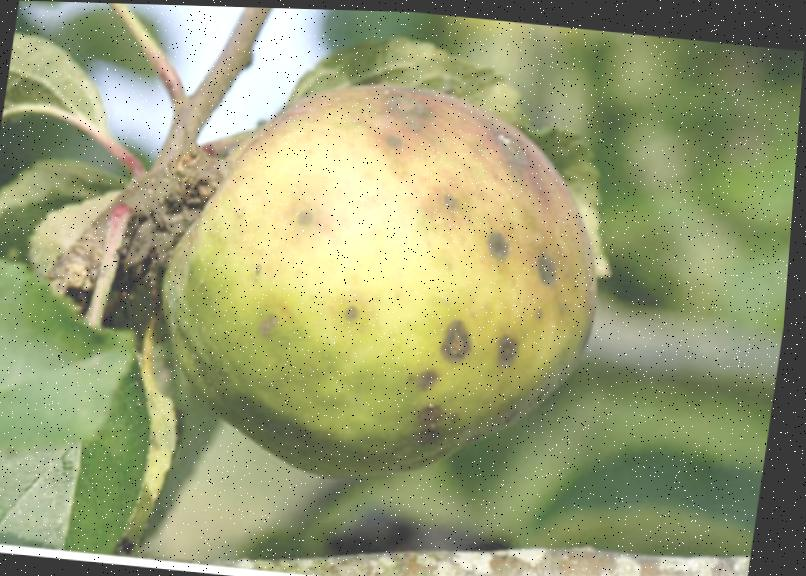SCAB: (134, 32, 662, 488)
